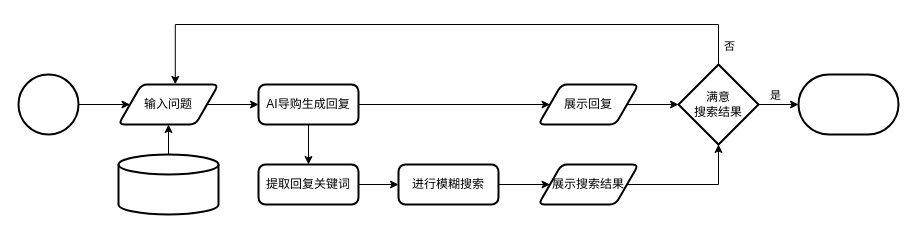
The diagram is 916 pixels wide and 233 high, and some of its shapes have lost their labels. Here are the shapes that lost their labels. From the top down, the centre of each, then its label:
At point 48,104: "用户打开助手页面".
At point 848,104: "导购结束 用户选购商品".
At point 168,184: "前轮对话记录".
